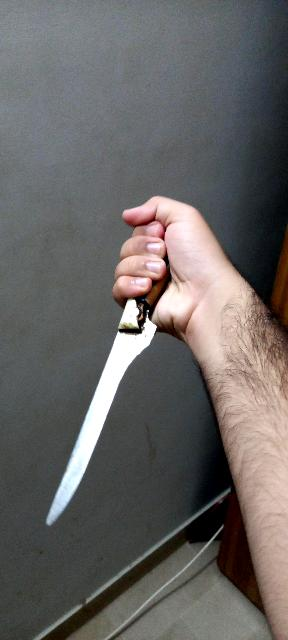long knife: (43, 192, 201, 532)
